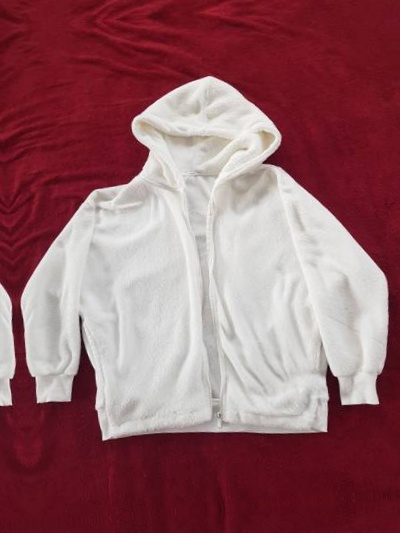Hoodie: (0, 49, 400, 466), (0, 82, 27, 498)
